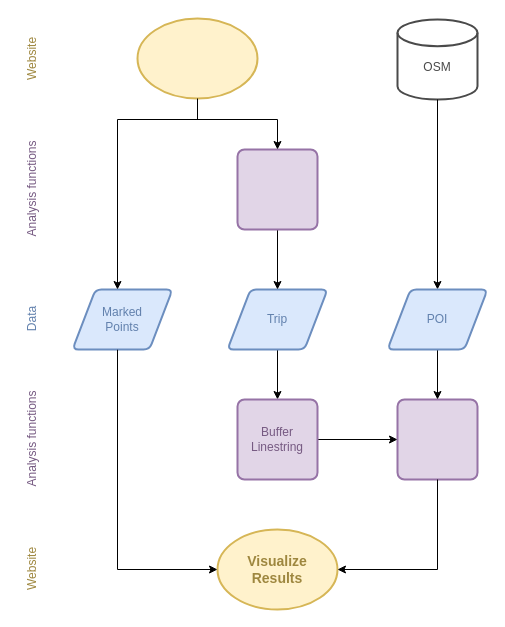
This 505x627 diagram has some shape labels left out. Here are the shapes that lost their labels. From the top down, the centre of each, then its label:
At point (197, 58): "Tracking".
At point (277, 189): "Clean Linestring".
At point (437, 439): "Intersect".
